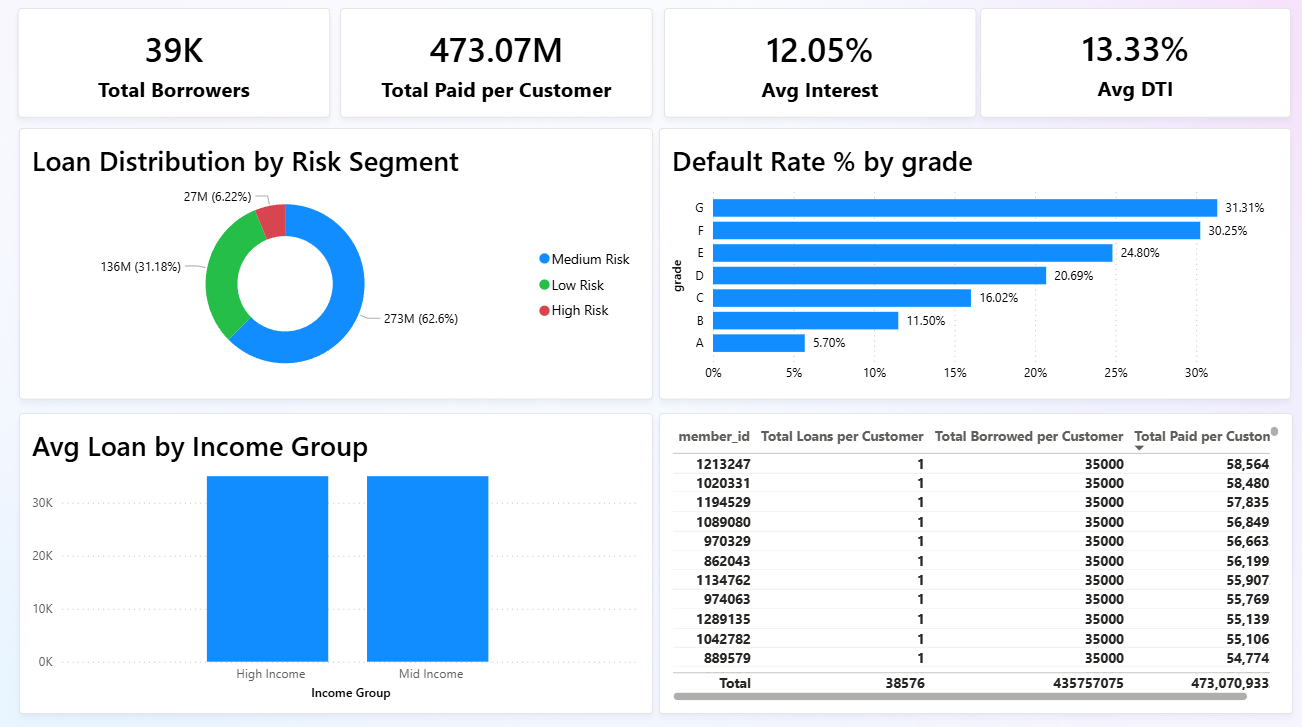

The dashboard page shown, as its layout file describes it:
{"tool":"powerbi","page":{"name":"Risk & Customer Analysis","canvas":[1280,720],"ordinal":1},"visuals":[{"type":"card","title":"Total Brrowers","fields":{"Values":["public financial_loan.Total Borrowers"]},"box":[18.6,10,305.7,107.1],"z":0},{"type":"card","fields":{"Values":["public financial_loan.Avg DTI"]},"box":[960,10,304.3,107.1],"z":1000},{"type":"card","fields":{"Values":["public financial_loan.Avg Interest"]},"box":[650,10,305.7,107.1],"z":2000},{"type":"card","fields":{"Values":["public financial_loan.Total Paid per Customer"]},"box":[334.3,10,305.7,107.1],"z":3000},{"type":"columnChart","title":"Avg Loan by Income Group","fields":{"Y":["public financial_loan.Avg Loan per Borrower"],"Category":["public financial_loan.Income Group"]},"box":[19.6,406,620,294.7],"z":5000},{"type":"donutChart","title":"Loan Distribution by Risk Segment","fields":{"Category":["public financial_loan.Risk Segment"],"Y":["Sum(public financial_loan.loan_amount)"]},"box":[19.6,127.2,620,265.4],"z":6000},{"type":"clusteredBarChart","fields":{"Category":["public financial_loan.grade"],"Y":["public financial_loan.Default Rate %"]},"box":[645.7,127.1,618.6,265.7],"z":7000},{"type":"tableEx","fields":{"Values":["public financial_loan.member_id","public financial_loan.Total Loans per Customer","public financial_loan.Total Borrowed per Customer","public financial_loan.Total Paid per Customer"]},"box":[645.7,406,620,294.7],"z":8000}]}

Visuals, with their boxes in screenshot pixels (x1, y1, x2, y2), scaled from the page's 1280x720 canvas onto the 1302x727 screenshot:
"Total Brrowers" card: (x1=19, y1=10, x2=330, y2=118)
card - public financial_loan.Avg DTI: (x1=976, y1=10, x2=1286, y2=118)
card - public financial_loan.Avg Interest: (x1=661, y1=10, x2=972, y2=118)
card - public financial_loan.Total Paid per Customer: (x1=340, y1=10, x2=651, y2=118)
"Avg Loan by Income Group" columnChart: (x1=20, y1=410, x2=651, y2=708)
"Loan Distribution by Risk Segment" donutChart: (x1=20, y1=128, x2=651, y2=396)
clusteredBarChart - public financial_loan.grade x public financial_loan.Default Rate %: (x1=657, y1=128, x2=1286, y2=397)
tableEx - public financial_loan.member_id x public financial_loan.Total Loans per Customer: (x1=657, y1=410, x2=1287, y2=708)
